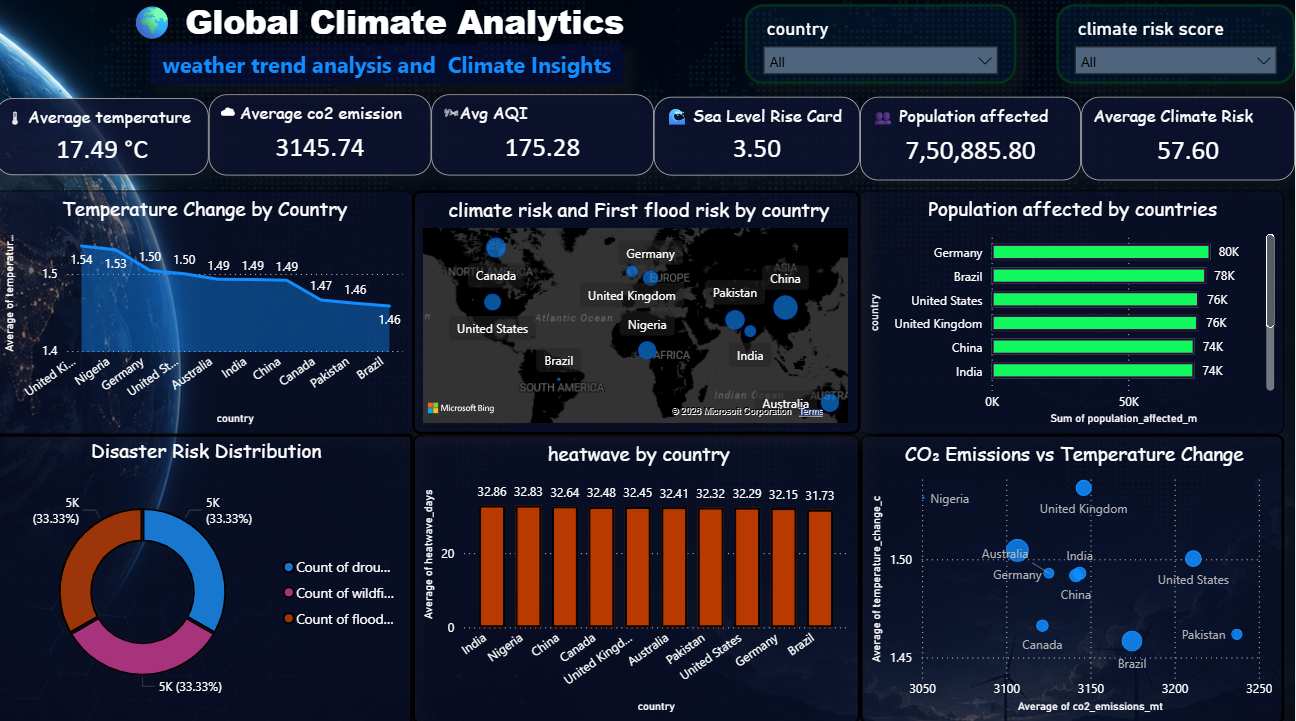

This screenshot's page, from the dashboard's own definition file:
{"tool":"powerbi","page":{"name":"Page 1","canvas":[1280,720],"ordinal":0},"visuals":[{"type":"card","title":"🌡 Average temperature ","fields":{"Values":["weather_climate_project_dataset.Avg Temp Card"]},"box":[0,103.4,210.5,76.3],"z":0},{"type":"card","title":"☁ Average co2 emission","fields":{"Values":["Avg(weather_climate_project_dataset.co2_emissions_mt)"]},"box":[210.5,99.7,219.1,80],"z":1000},{"type":"card","title":"🌬Avg AQI","fields":{"Values":["Avg(weather_climate_project_dataset.air_quality_index)"]},"box":[429.5,99.7,219.1,80],"z":2000},{"type":"card","title":"🌊 Sea Level Rise Card","fields":{"Values":["Avg(weather_climate_project_dataset.sea_level_rise_mm)"]},"box":[648.6,102.2,203.1,77.5],"z":3000},{"type":"card","title":"👥 Population affected","fields":{"Values":["Sum(weather_climate_project_dataset.population_affected_m)"]},"box":[851.7,102.2,217.8,82.5],"z":4000},{"type":"card","title":"Average Climate Risk ","fields":{"Values":["Avg(weather_climate_project_dataset.climate_risk_score)"]},"box":[1069.5,102.2,210.5,82.5],"z":5000},{"type":"lineChart","title":"Temperature Change by Country","fields":{"Category":["weather_climate_project_dataset.country"],"Y":["Avg(weather_climate_project_dataset.temperature_change_c)"]},"box":[0,194.5,411.1,240],"z":6000},{"type":"clusteredBarChart","title":"Top 10 Countries by Population Affected","fields":{"Category":["weather_climate_project_dataset.country"],"Y":["Sum(weather_climate_project_dataset.population_affected_m)"]},"box":[851.7,194.5,417.2,240],"z":7000},{"type":"textbox","box":[152.6,50.5,466.5,39.4],"z":8000},{"type":"donutChart","title":"Disaster Risk Distribution","fields":{"Y":["CountNonNull(weather_climate_project_dataset.drought_risk)","CountNonNull(weather_climate_project_dataset.wildfire_incidents)","CountNonNull(weather_climate_project_dataset.flood_risk)"]},"box":[0,434.5,411.1,285.5],"z":9000},{"type":"clusteredColumnChart","title":" heatwave by country","fields":{"Category":["weather_climate_project_dataset.country"],"Y":["Avg(weather_climate_project_dataset.heatwave_days)"]},"box":[411.1,434.5,440.6,285.5],"z":10000},{"type":"scatterChart","title":"CO₂ Emissions vs Temperature Change","fields":{"X":["Avg(weather_climate_project_dataset.co2_emissions_mt)"],"Y":["Avg(weather_climate_project_dataset.temperature_change_c)"],"Size":["Sum(weather_climate_project_dataset.population_affected_m)"],"Category":["weather_climate_project_dataset.country"]},"box":[851.7,434.5,417.2,285.5],"z":11000},{"type":"slicer","fields":{"Values":["weather_climate_project_dataset.climate_risk_score"]},"box":[1044.9,11.1,235.1,78.8],"z":12000},{"type":"slicer","fields":{"Values":["weather_climate_project_dataset.country"]},"box":[738.5,11.1,267.1,78.8],"z":13000},{"type":"textbox","box":[62.8,0,626.5,56.6],"z":14000},{"type":"map","title":" climate risk and First flood risk by country","fields":{"Category":["weather_climate_project_dataset.country"],"Size":["Avg(weather_climate_project_dataset.climate_risk_score)"]},"box":[411.1,194.5,440.6,240],"z":15000}]}

Visuals, with their boxes in screenshot pixels (x1, y1, x2, y2), scaled from the page's 1280x720 canvas onto the 1296x721 screenshot:
"🌡 Average temperature " card: crop(0, 104, 213, 180)
"☁ Average co2 emission" card: crop(213, 100, 435, 180)
"🌬Avg AQI" card: crop(435, 100, 657, 180)
"🌊 Sea Level Rise Card" card: crop(657, 102, 862, 180)
"👥 Population affected" card: crop(862, 102, 1083, 185)
"Average Climate Risk " card: crop(1083, 102, 1295, 185)
"Temperature Change by Country" lineChart: crop(0, 195, 416, 435)
"Top 10 Countries by Population Affected" clusteredBarChart: crop(862, 195, 1285, 435)
textbox: crop(155, 51, 627, 90)
"Disaster Risk Distribution" donutChart: crop(0, 435, 416, 720)
" heatwave by country" clusteredColumnChart: crop(416, 435, 862, 720)
"CO₂ Emissions vs Temperature Change" scatterChart: crop(862, 435, 1285, 720)
slicer - weather_climate_project_dataset.climate_risk_score: crop(1058, 11, 1295, 90)
slicer - weather_climate_project_dataset.country: crop(748, 11, 1018, 90)
textbox: crop(64, 0, 698, 57)
" climate risk and First flood risk by country" map: crop(416, 195, 862, 435)
